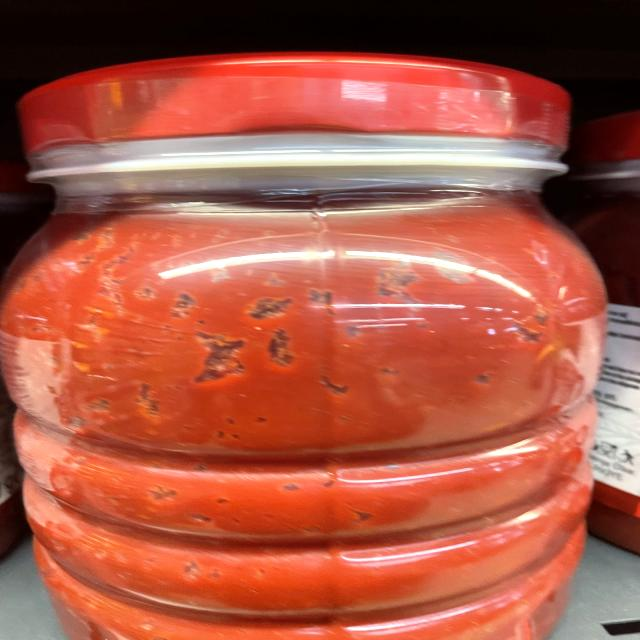tomato paste: (0, 34, 640, 640)
